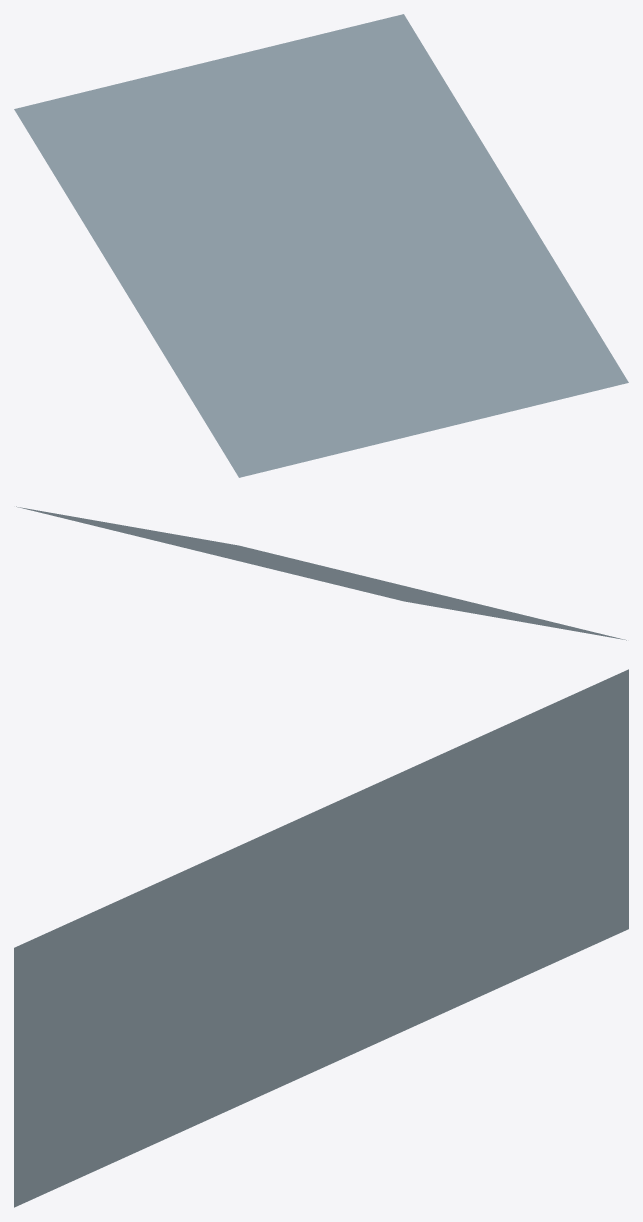
The model's file is RoofSlope.glb.
3 renders of one model, top to bottom at view 1: azimuth 30°, elevation 25°; view 2: azimuth 150°, elevation 25°; view 3: azimuth 270°, elevation 25°, orthographic. The views are drawn at different scales.
Visible parts, largest first — view 1: PBK_Modern_RoofSlope_Roof_Surface.001; view 2: PBK_Modern_RoofSlope_Roof_Surface.001; view 3: PBK_Modern_RoofSlope_Roof_Surface.001.
Part boxes in pixels (x1=…): PBK_Modern_RoofSlope_Roof_Surface.001: x1=14, y1=14, x2=628, y2=477; PBK_Modern_RoofSlope_Roof_Surface.001: x1=16, y1=506, x2=626, y2=640; PBK_Modern_RoofSlope_Roof_Surface.001: x1=14, y1=669, x2=628, y2=1207.
Bounding box in the file's own units: 2 × 1 × 2.
